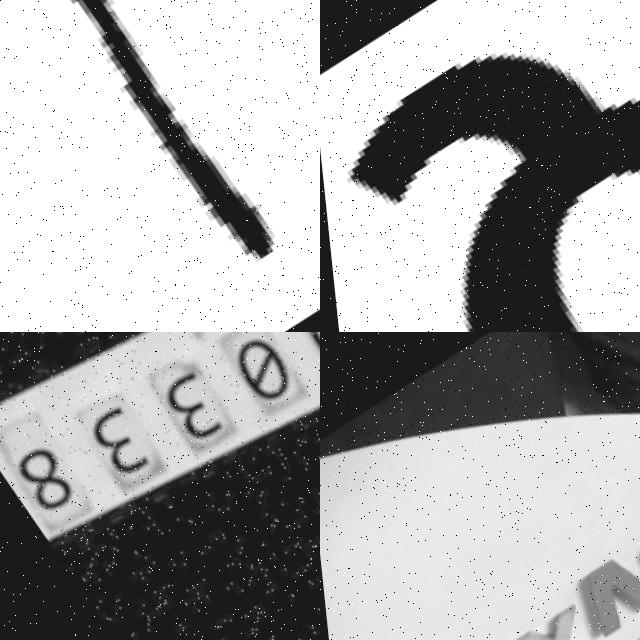0: (205, 332, 311, 424), (273, 332, 320, 388)
3: (135, 352, 243, 463), (62, 388, 169, 498)
8: (0, 419, 95, 536)
J: (0, 0, 320, 286)
Q: (320, 0, 640, 332)
V: (560, 546, 640, 639)
X: (499, 604, 602, 640)
